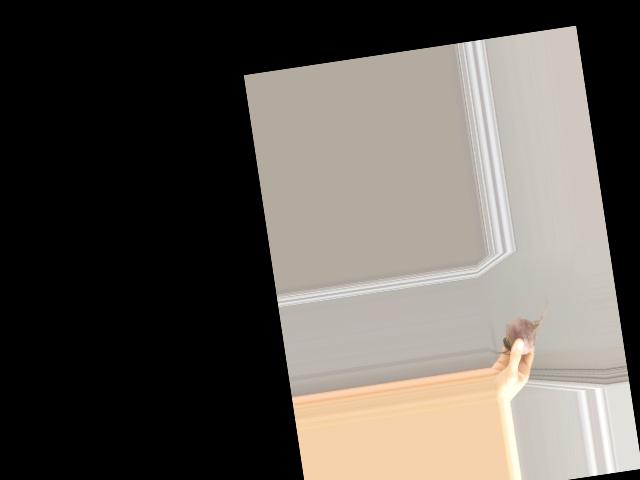beet: (481, 294, 554, 359)
